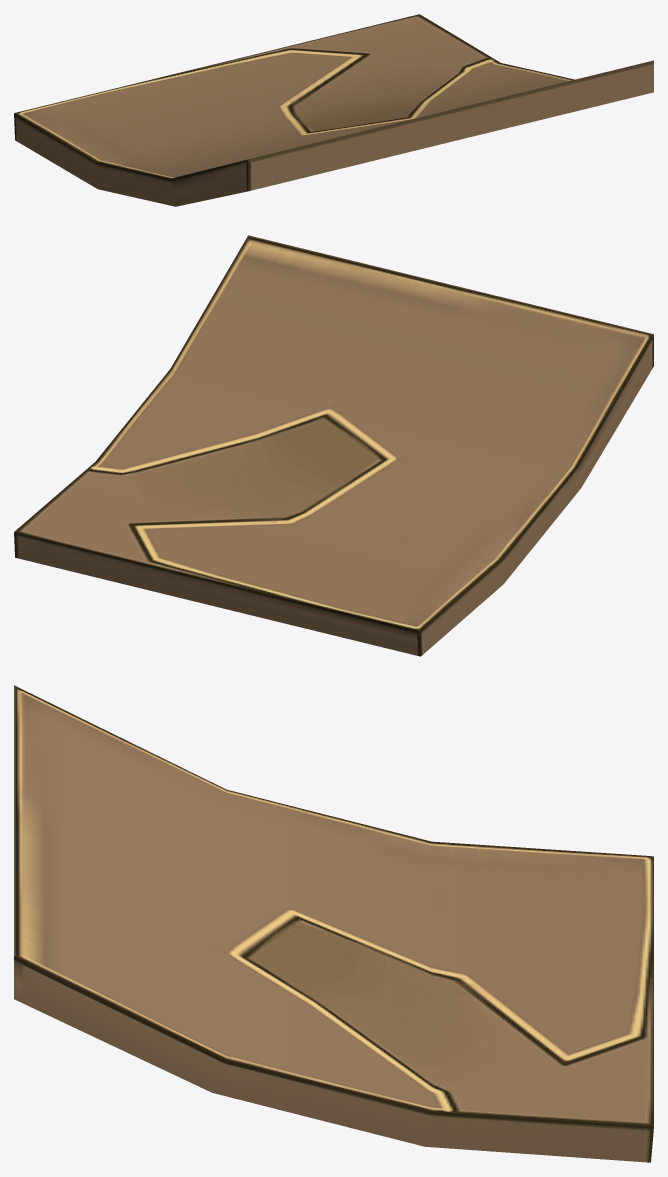
File: egypt_ramp.gltf
3 views of the same model, one above another, from view 1: azimuth 30°, elevation 25°; view 2: azimuth 150°, elevation 25°; view 3: azimuth 270°, elevation 25° (orthographic). The views are drawn at different scales.
Visible parts, largest first — view 1: egypt_ramp_glb; view 2: egypt_ramp_glb; view 3: egypt_ramp_glb.
Part boxes in pixels (<box>): egypt_ramp_glb: <box>14,14,653,206</box>; egypt_ramp_glb: <box>14,235,653,656</box>; egypt_ramp_glb: <box>14,685,653,1162</box>.
Size of what is drawn, in the model's own units: 4.02 by 1.44 by 4.02.
Materials: 1 (1 with a texture image).
